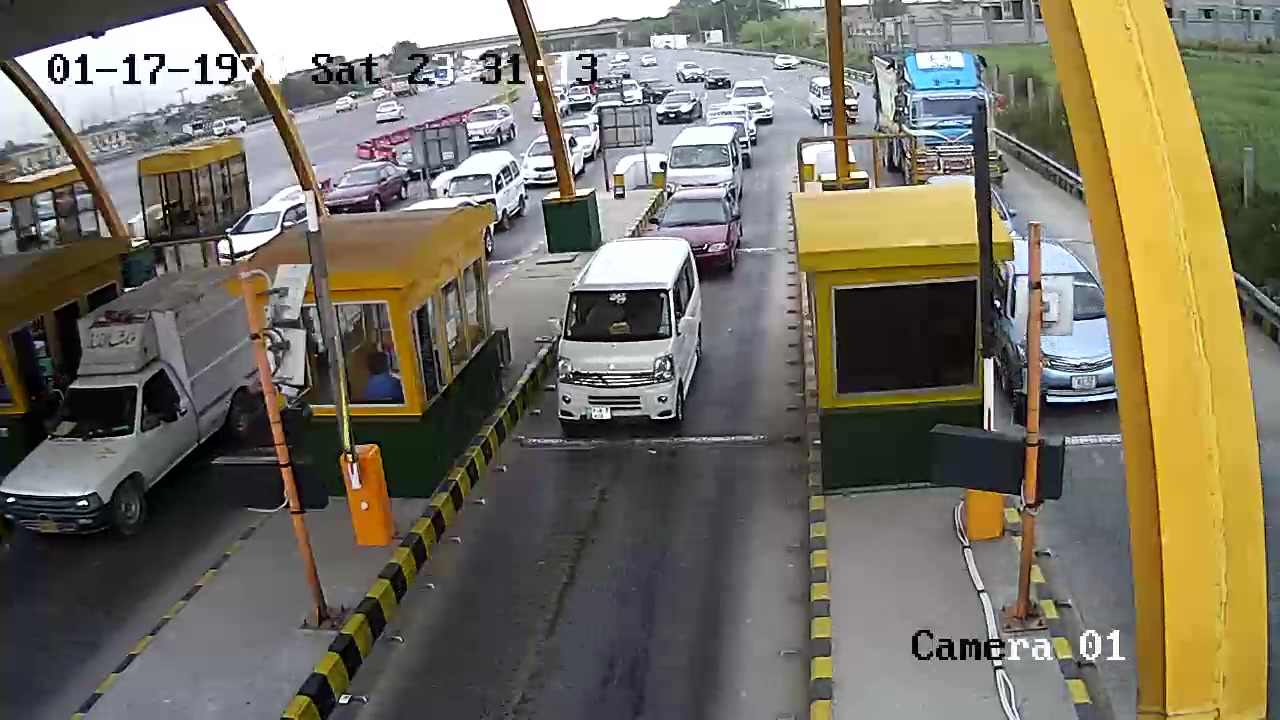F1: (553, 225, 713, 436)
